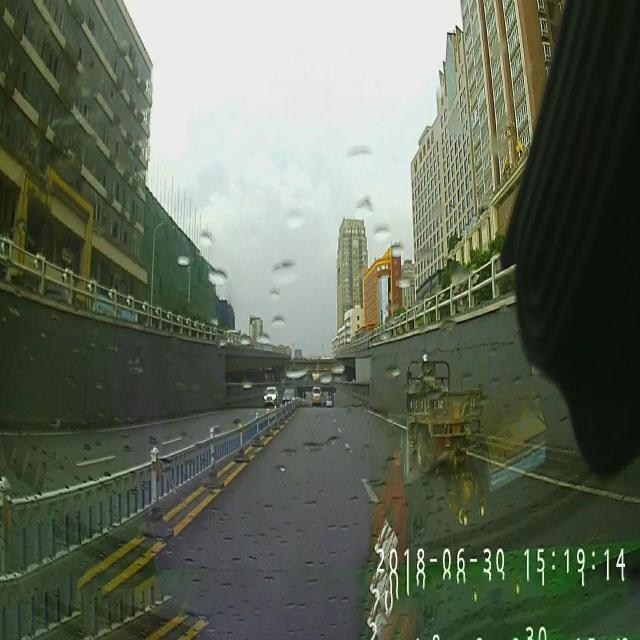car: (262, 384, 278, 407), (281, 388, 295, 408), (312, 386, 322, 404), (325, 394, 333, 408)
